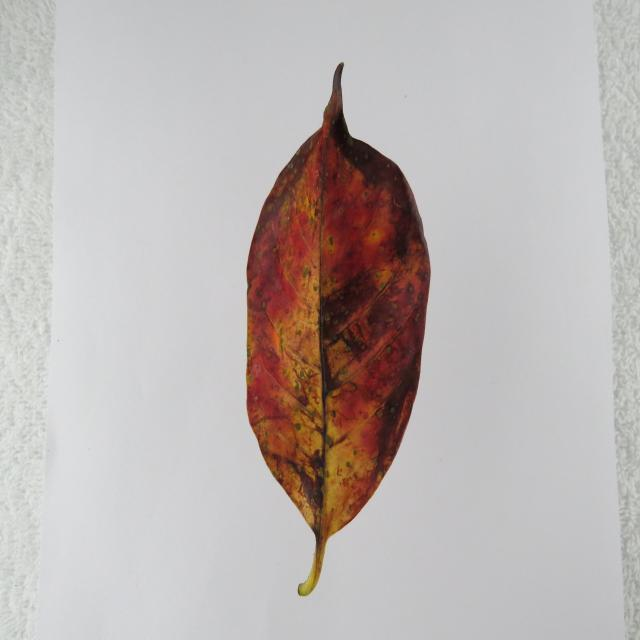DeficienciaNutricional-Fosforo: (246, 63, 430, 595)
